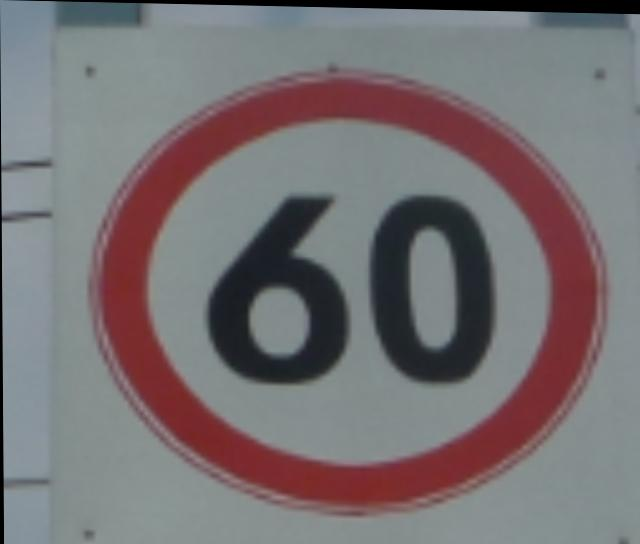limit60: (74, 48, 621, 530)
